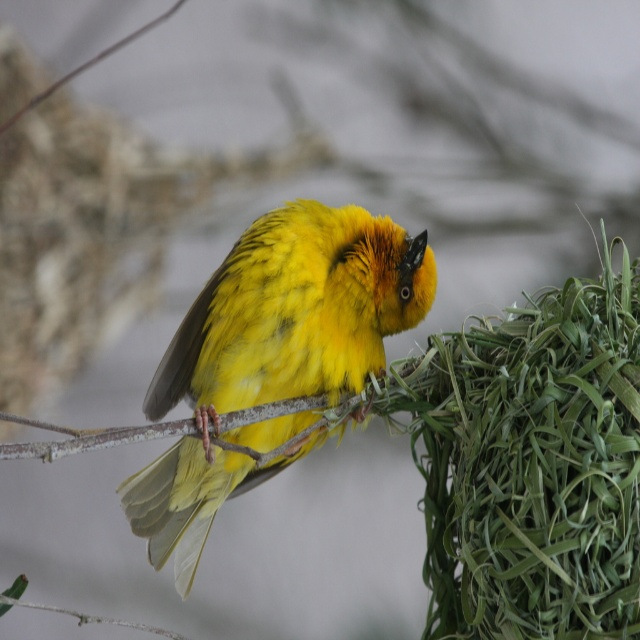Canary: (112, 199, 438, 606)
